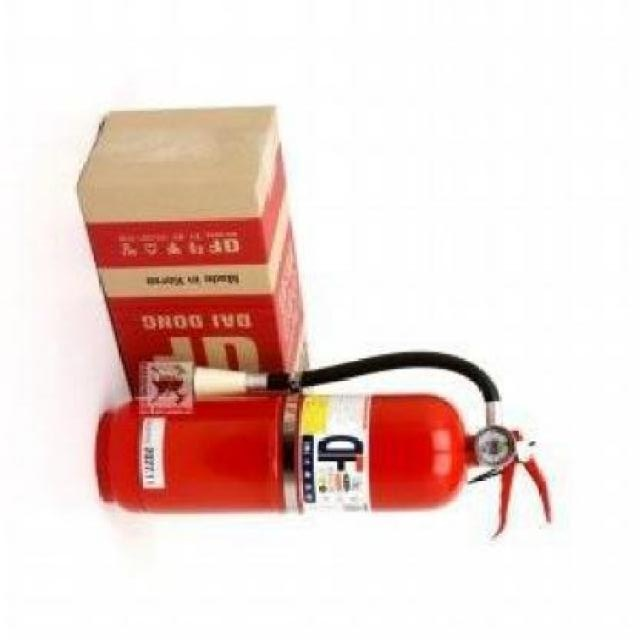fire extinguisher: (96, 349, 553, 540)
